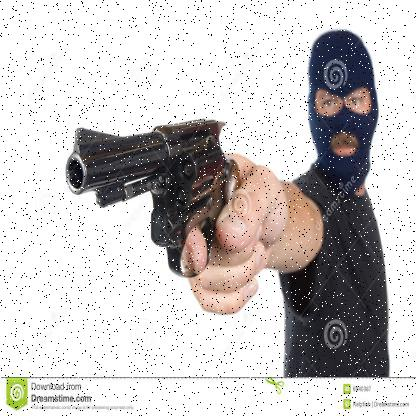pistol: (65, 109, 246, 276)
